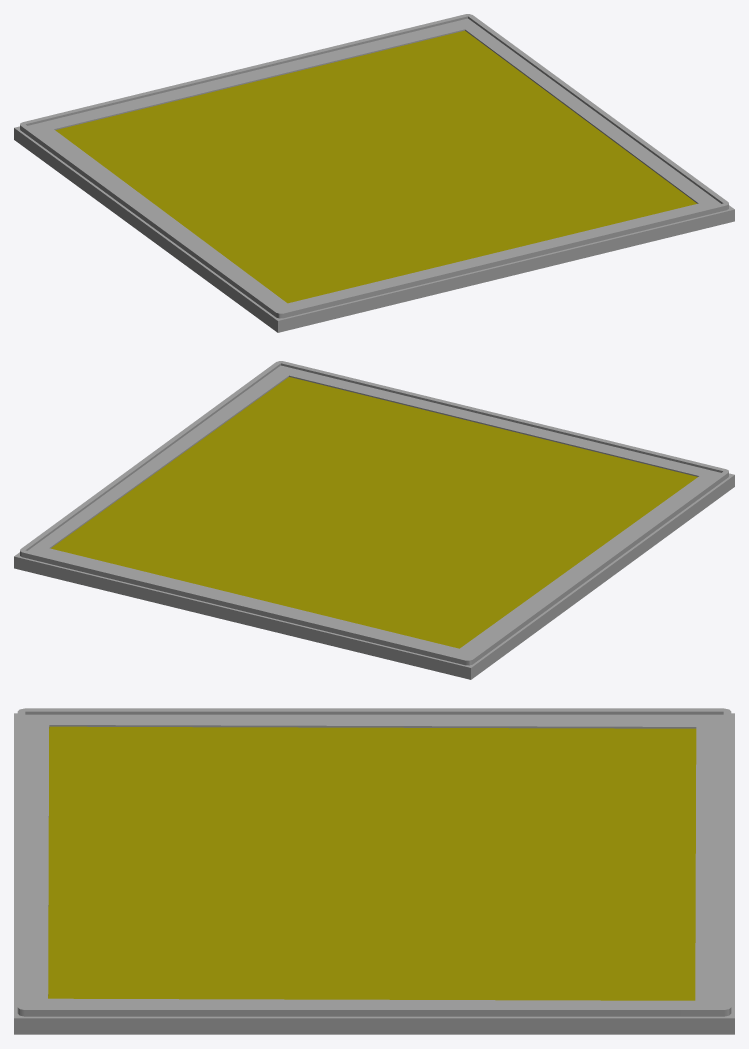
File: SM_Ceiling_05_B.fbx
3 renders of one model, top to bottom at view 1: azimuth 30°, elevation 25°; view 2: azimuth 150°, elevation 25°; view 3: azimuth 270°, elevation 25°, orthographic. The views are drawn at different scales.
Parts seen in each view (by area): view 1: polySurface913; view 2: polySurface913; view 3: polySurface913.
Boxes of the visible parts, x1,y1,x2,y2 form: polySurface913: (14,14,734,332); polySurface913: (14,361,734,679); polySurface913: (14,708,734,1034).
Size of the model in its own units: 200 by 7 by 200.
